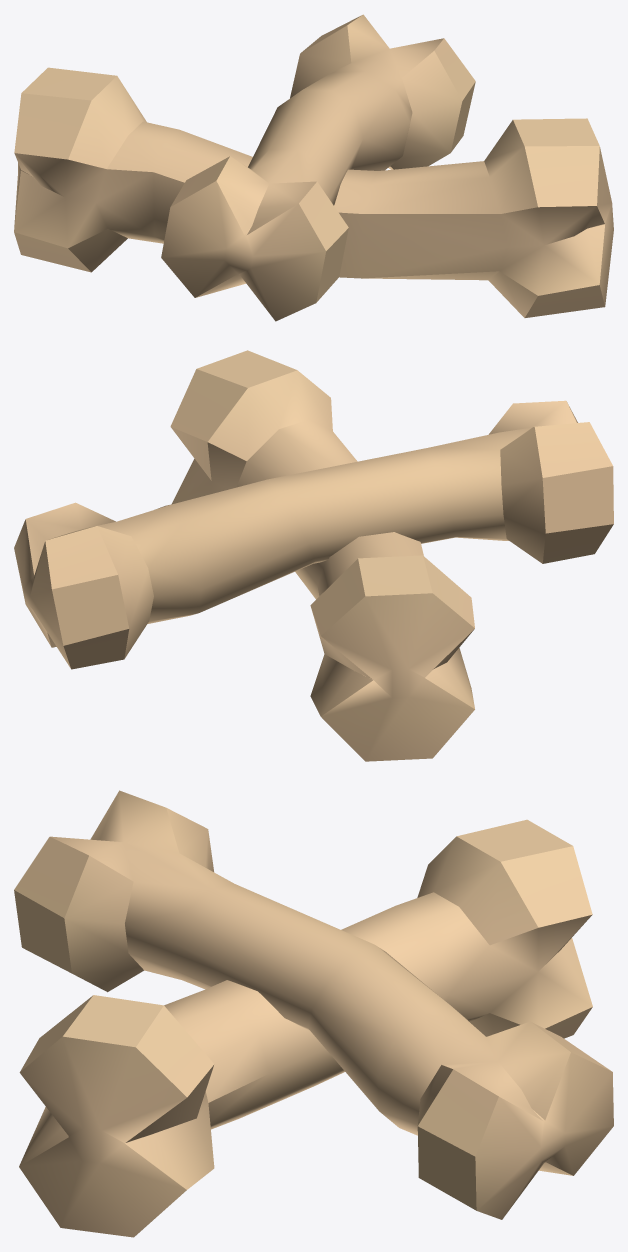
File: Bones_2.obj
3 views of the same model, one above another, from view 1: azimuth 30°, elevation 25°; view 2: azimuth 150°, elevation 25°; view 3: azimuth 270°, elevation 25° (orthographic). The views are drawn at different scales.
Parts seen in each view (by area): view 1: Bones_2; view 2: Bones_2; view 3: Bones_2.
Part boxes in pixels (<box>): Bones_2: <box>14,14,613,321</box>; Bones_2: <box>14,350,613,761</box>; Bones_2: <box>14,790,613,1237</box>.
Bounding box in the file's own units: 0.3083 × 0.1314 × 0.2998.
